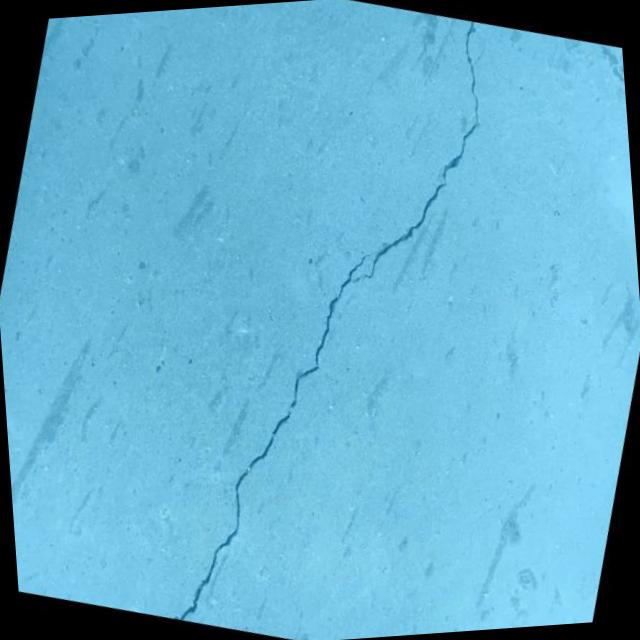crack: (129, 0, 538, 640)
